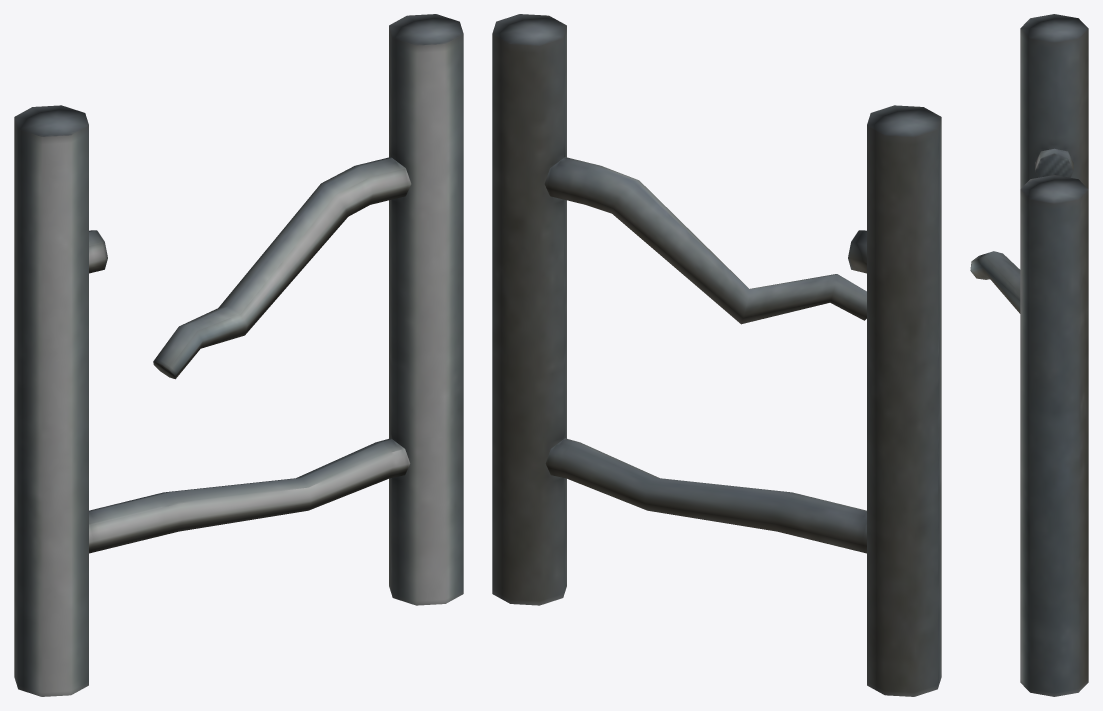
Rendered from LadderIron02.fbx.
3 renders of one model, left to right at view 1: azimuth 30°, elevation 25°; view 2: azimuth 150°, elevation 25°; view 3: azimuth 270°, elevation 25°, orthographic. The views are drawn at different scales.
Parts seen in each view (by area): view 1: polySurface5, polySurface1, polySurface6, polySurface3; view 2: polySurface5, polySurface1, polySurface3, polySurface6; view 3: polySurface1, polySurface5, polySurface3, polySurface7.
Boxes of the visible parts, <box> form: polySurface5: <box>14,105,88,696</box>; polySurface1: <box>389,14,463,605</box>; polySurface6: <box>89,438,410,553</box>; polySurface3: <box>153,157,411,379</box>; polySurface5: <box>867,105,941,696</box>; polySurface1: <box>492,14,566,605</box>; polySurface3: <box>544,157,866,324</box>; polySurface6: <box>545,438,866,553</box>; polySurface1: <box>1020,175,1088,696</box>; polySurface5: <box>1020,14,1088,188</box>; polySurface3: <box>970,251,1020,313</box>; polySurface7: <box>1035,148,1073,177</box>.
Size of the model in its own units: 0.8255 by 1 by 0.2171.
